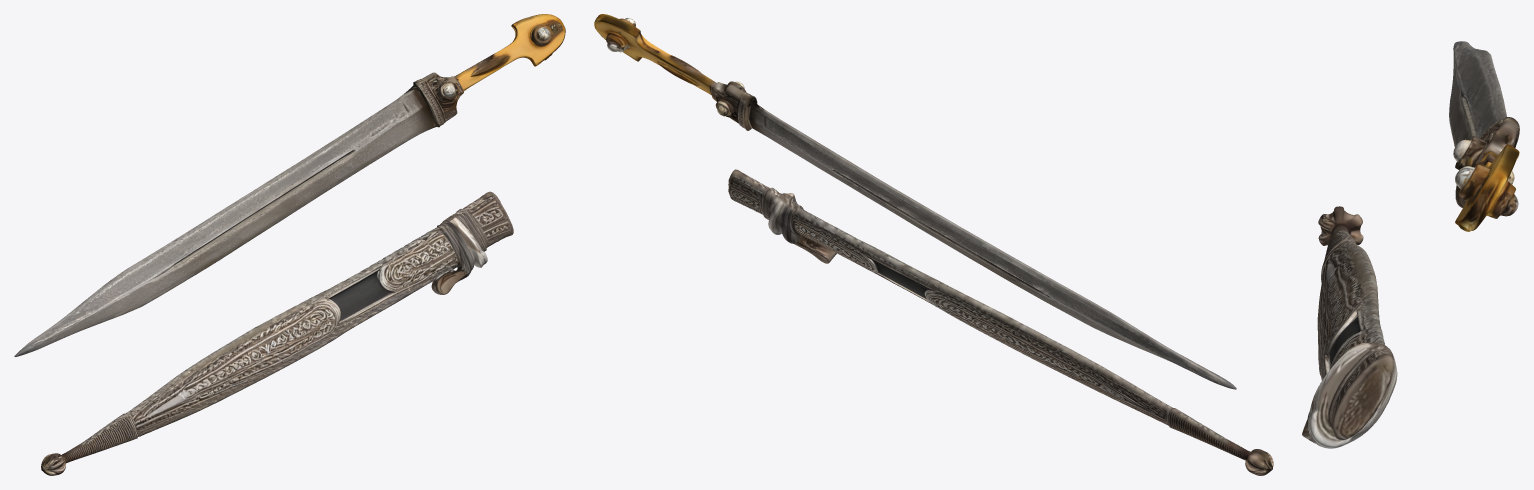
Rendered from 015-pryamoy-kinzhal-s-bogato-ukrashennymi.glb.
The picture shows the model from 3 angles, left to right: view 1: azimuth 30°, elevation 25°; view 2: azimuth 150°, elevation 25°; view 3: azimuth 270°, elevation 25°; orthographic projection. The views are drawn at different scales.
Visible parts, largest first — view 1: node_0; view 2: node_0; view 3: node_0.
Boxes of the visible parts, left/top/right/bottom form: node_0: left=14, top=14, right=565, bottom=475; node_0: left=594, top=14, right=1273, bottom=475; node_0: left=1302, top=41, right=1519, bottom=448.
Bounding box in the file's own units: 1.07 × 0.5565 × 0.1813.
1 material, 1 textured.
